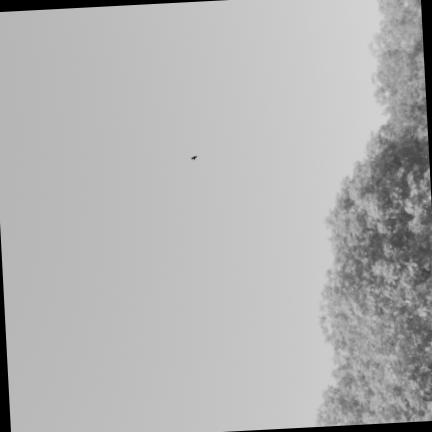Shahed: (191, 156, 196, 159)
